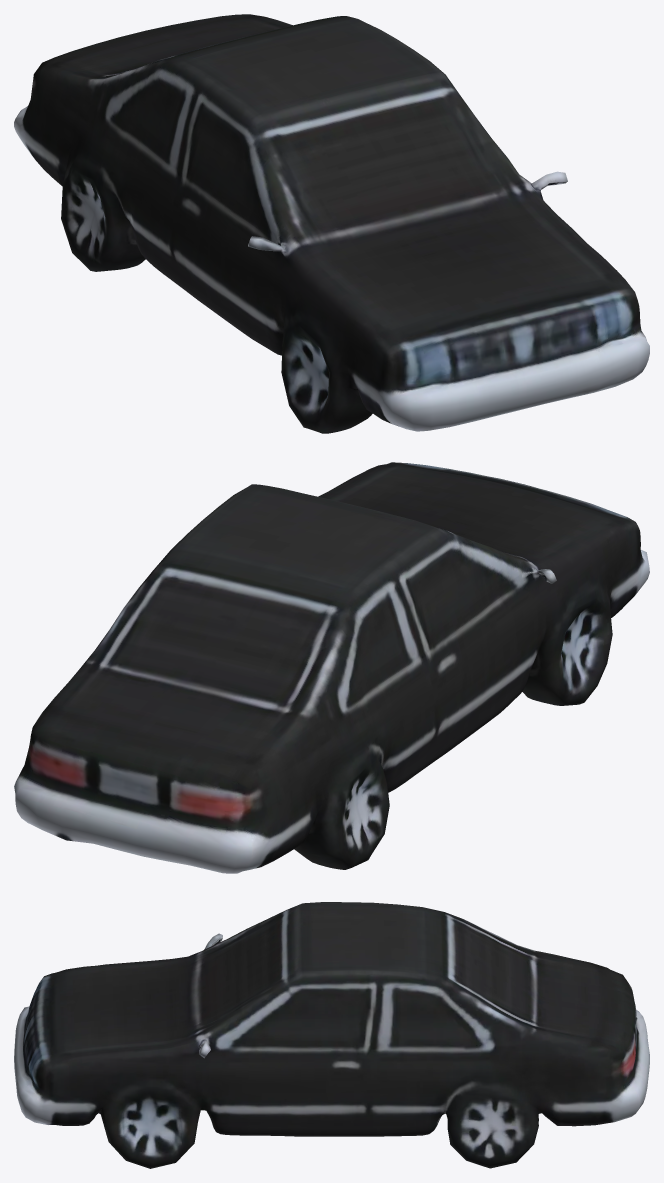
The model's file is car-black-1-transformed.glb.
3 views of the same model, one above another, from view 1: azimuth 30°, elevation 25°; view 2: azimuth 150°, elevation 25°; view 3: azimuth 270°, elevation 25° (orthographic). The views are drawn at different scales.
Visible parts, largest first — view 1: mesh; view 2: mesh; view 3: mesh.
Part boxes in pixels (x1=…): mesh: x1=14, y1=14, x2=649, y2=433; mesh: x1=14, y1=462, x2=649, y2=873; mesh: x1=14, y1=902, x2=649, y2=1168.
Bounding box in the file's own units: 0.4334 × 0.3174 × 0.9994.
1 material, 1 textured.
